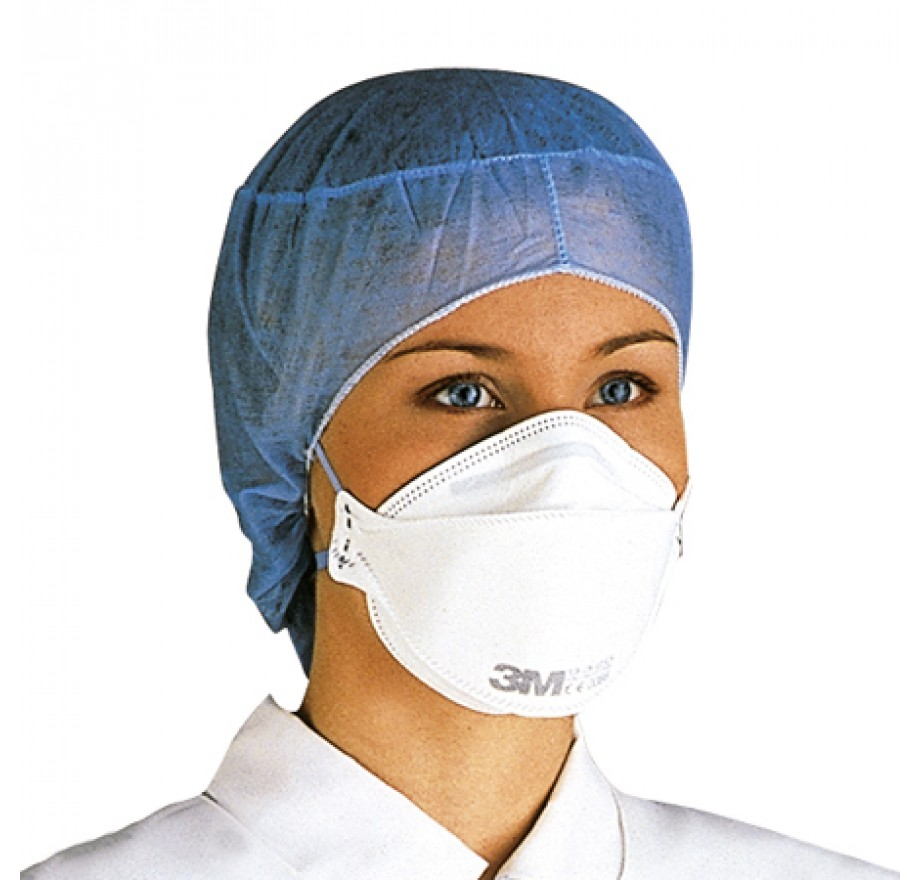with_mask: (322, 301, 672, 726)
